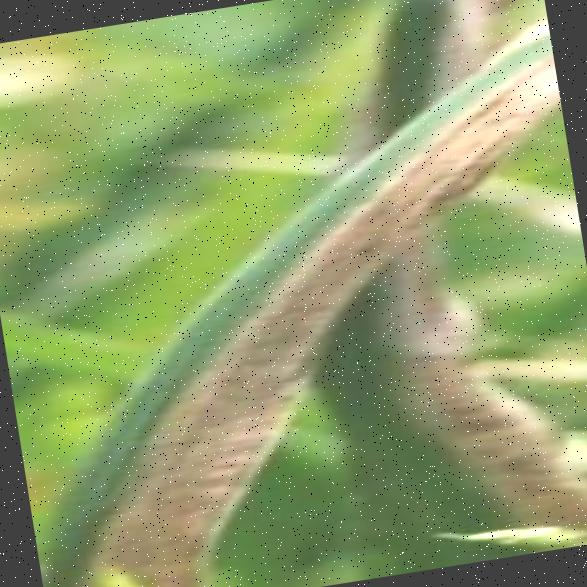Bacteria_Leaf_Blight: (21, 237, 375, 587)
